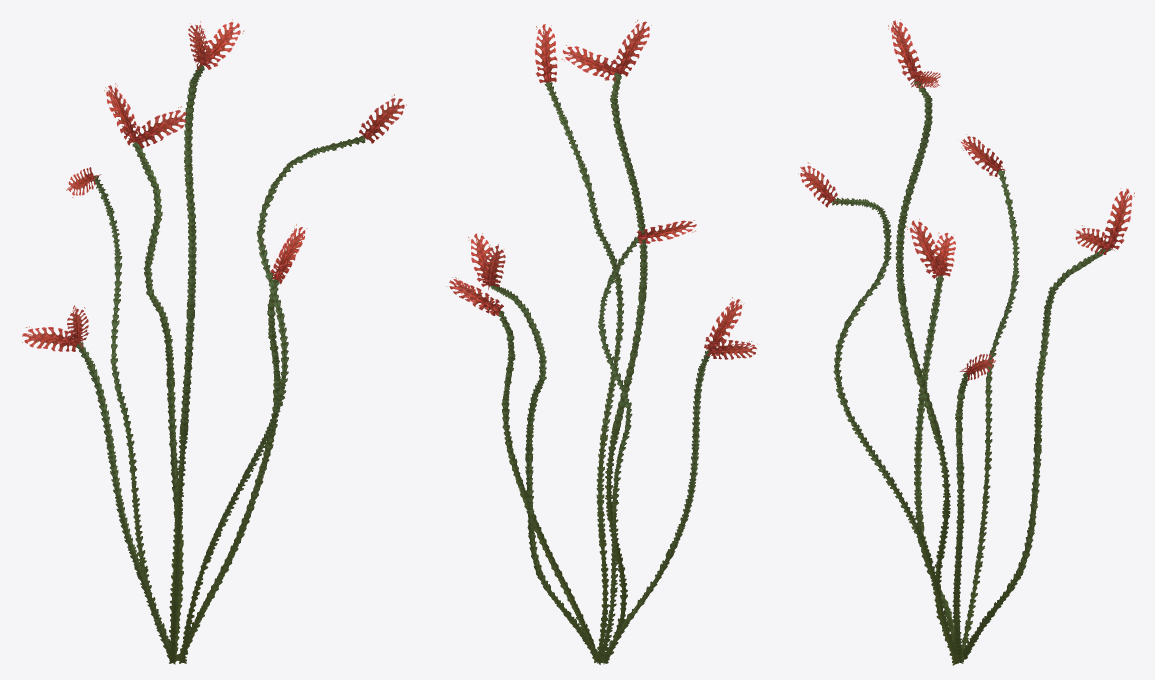
File: plant-5.glb
The picture shows the model from 3 angles, left to right: view 1: azimuth 30°, elevation 25°; view 2: azimuth 150°, elevation 25°; view 3: azimuth 270°, elevation 25°; orthographic projection. The views are drawn at different scales.
Visible parts, largest first — view 1: ocotillo.Flower.001_Material.001_0; view 2: ocotillo.Flower.001_Material.001_0; view 3: ocotillo.Flower.001_Material.001_0.
Boxes of the visible parts, left/top/right/bottom form: ocotillo.Flower.001_Material.001_0: left=22, top=19, right=406, bottom=664; ocotillo.Flower.001_Material.001_0: left=446, top=20, right=757, bottom=664; ocotillo.Flower.001_Material.001_0: left=798, top=19, right=1134, bottom=665.
Bounding box in the file's own units: 0.8426 × 1.7 × 0.8324.
1 material, 1 textured.
